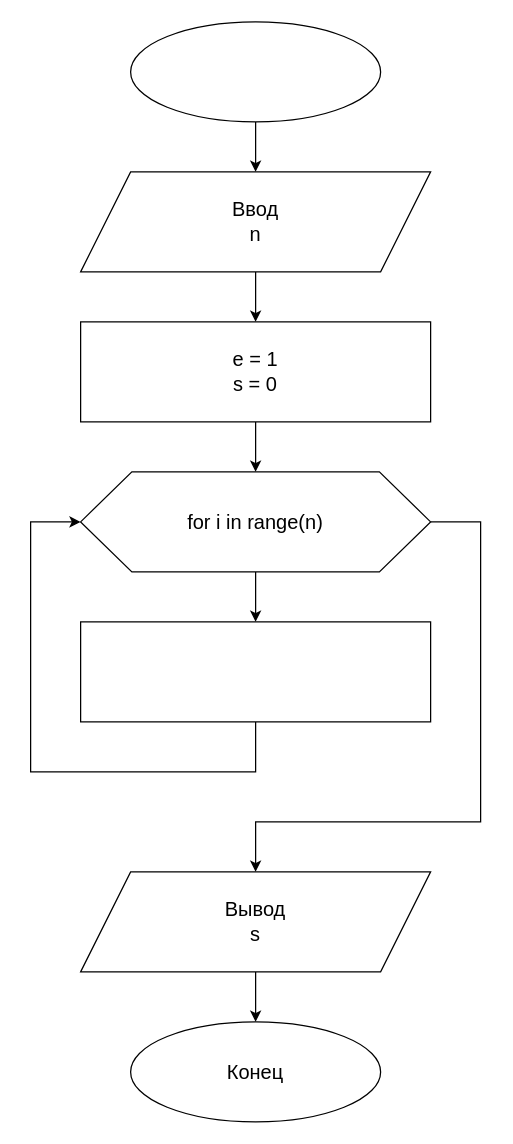
Image size: 513x1144. Some labels were removed from this diagram. Here are the shapes that lost their labels. From the top down, the box of each, then its label:
(129, 21, 381, 122): Начало
(79, 621, 431, 722): s += e e /= -2
